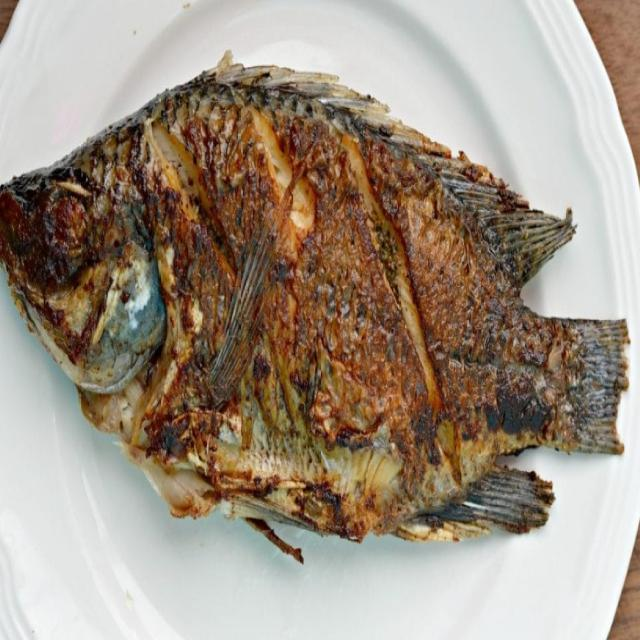FISH FRY: (0, 54, 630, 562)
